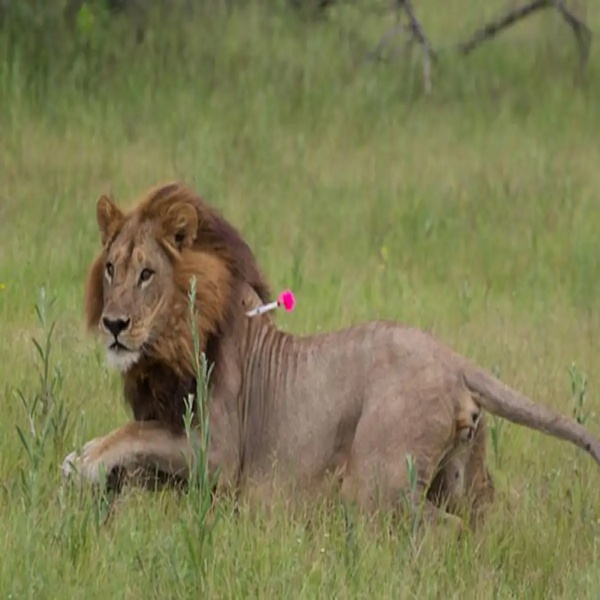Lion: (60, 182, 600, 545)
